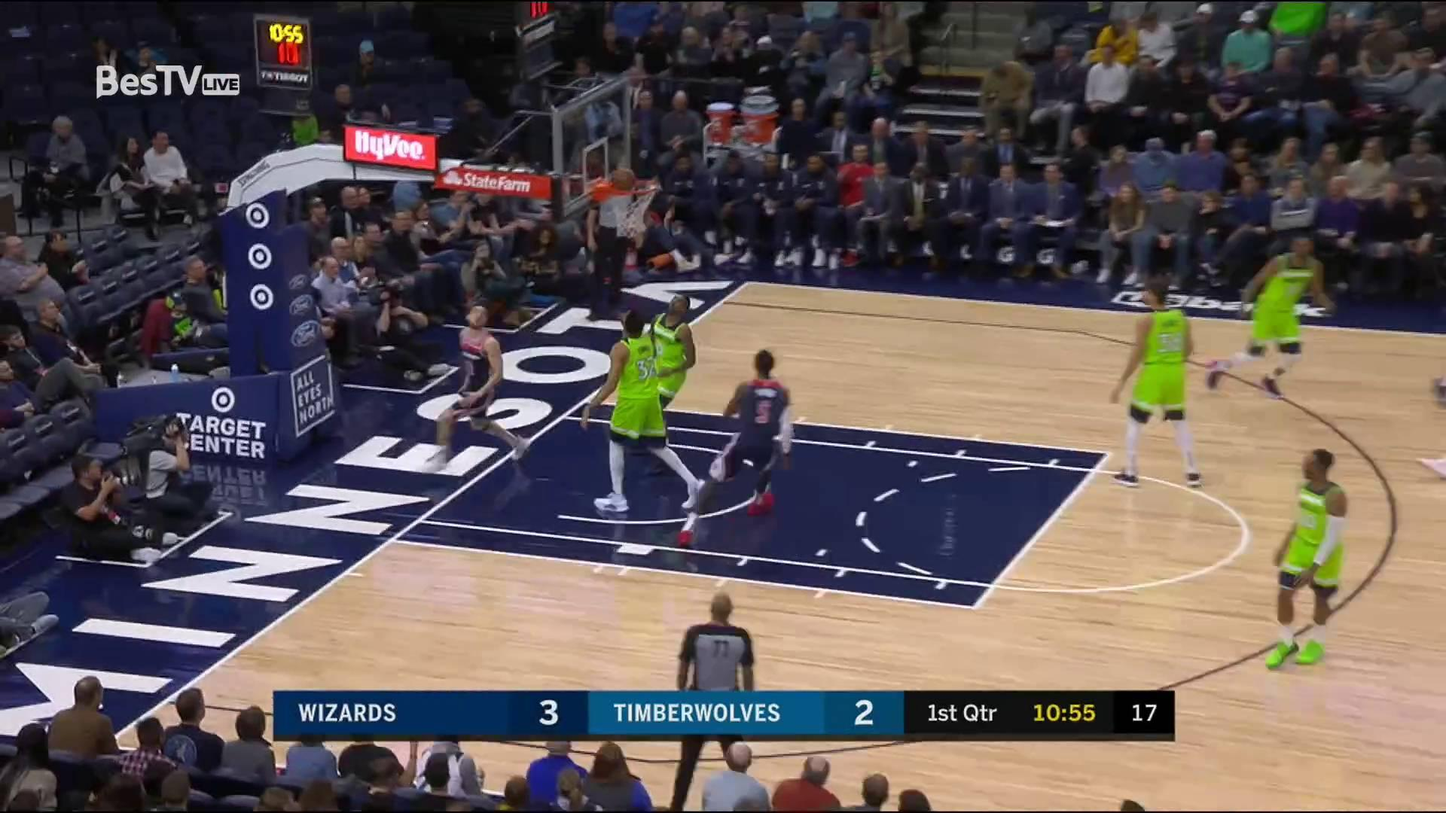basketball: (610, 164, 638, 194)
